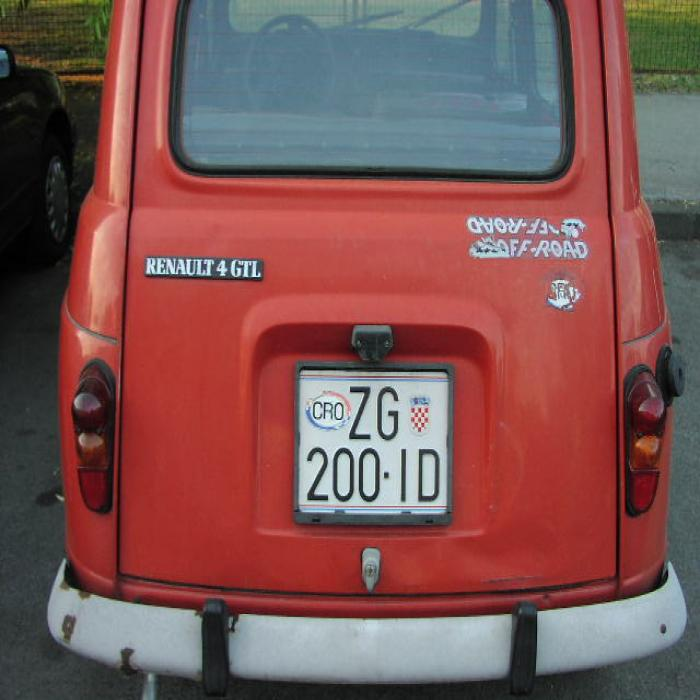number_plate: (298, 369, 447, 512)
